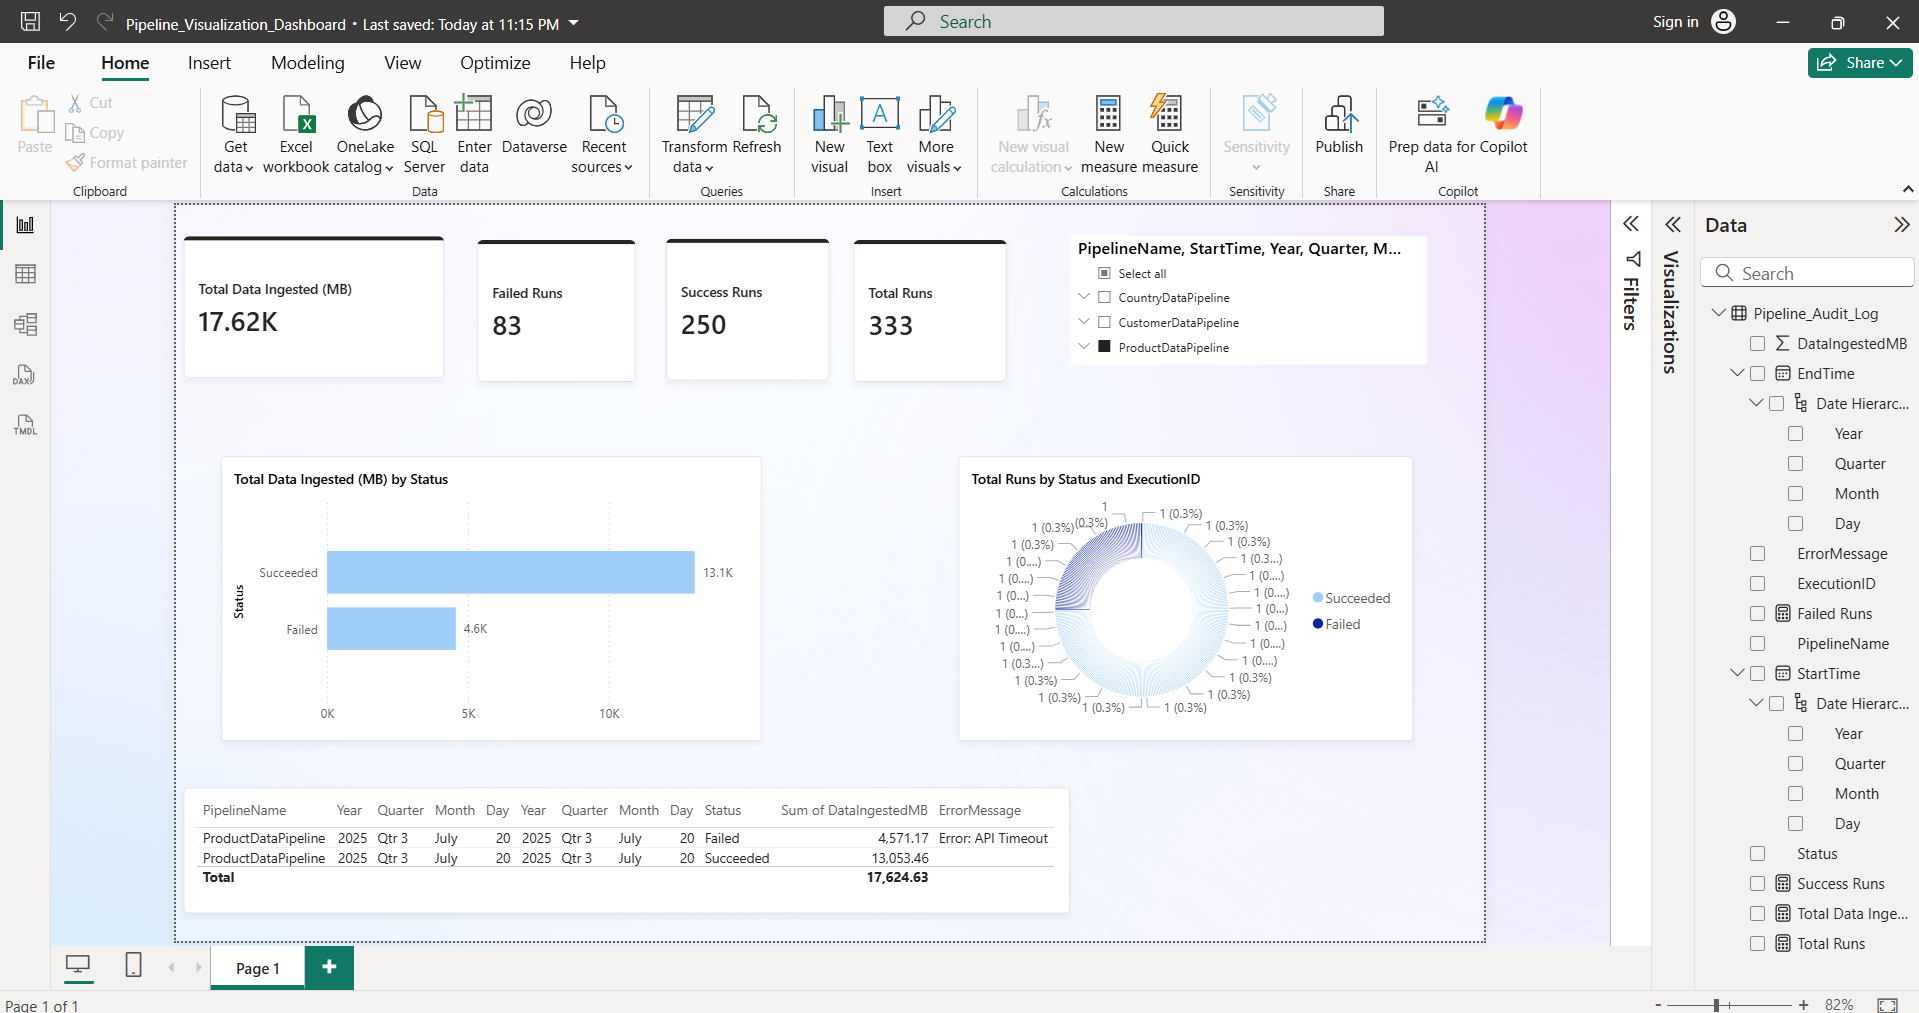

What the dashboard file says about the page in this screenshot:
{"tool":"powerbi","page":{"name":"Page 1","canvas":[1280,720],"ordinal":0},"visuals":[{"type":"cardVisual","fields":{"Data":["Pipeline_Audit_Log.Success Runs"]},"box":[479.4,33,160.2,139.4],"z":0},{"type":"cardVisual","fields":{"Data":["Pipeline_Audit_Log.Total Runs"]},"box":[662.8,34.2,150.4,139.4],"z":1000},{"type":"cardVisual","fields":{"Data":["Pipeline_Audit_Log.Failed Runs"]},"box":[294.7,34.2,155.3,139.4],"z":2000},{"type":"cardVisual","fields":{"Data":["Pipeline_Audit_Log.Total Data Ingested (MB)"]},"box":[7.3,30.6,255.6,139.4],"z":3000},{"type":"tableEx","fields":{"Values":["Pipeline_Audit_Log.PipelineName","Pipeline_Audit_Log.StartTime.Variation.Date Hierarchy.Year","Pipeline_Audit_Log.StartTime.Variation.Date Hierarchy.Quarter","Pipeline_Audit_Log.StartTime.Variation.Date Hierarchy.Month","Pipeline_Audit_Log.StartTime.Variation.Date Hierarchy.Day","Pipeline_Audit_Log.EndTime.Variation.Date Hierarchy.Year","Pipeline_Audit_Log.EndTime.Variation.Date Hierarchy.Quarter","Pipeline_Audit_Log.EndTime.Variation.Date Hierarchy.Month","Pipeline_Audit_Log.EndTime.Variation.Date Hierarchy.Day","Pipeline_Audit_Log.Status","Sum(Pipeline_Audit_Log.DataIngestedMB)","Pipeline_Audit_Log.ErrorMessage"]},"box":[7.2,569.4,867.4,123.1],"z":4000},{"type":"slicer","fields":{"Values":["Pipeline_Audit_Log.PipelineName","Pipeline_Audit_Log.StartTime","Pipeline_Audit_Log.StartTime.Variation.Date Hierarchy.Year","Pipeline_Audit_Log.StartTime.Variation.Date Hierarchy.Quarter","Pipeline_Audit_Log.StartTime.Variation.Date Hierarchy.Month","Pipeline_Audit_Log.StartTime.Variation.Date Hierarchy.Day"]},"box":[874.7,30.2,349.9,125.5],"z":5000},{"type":"donutChart","fields":{"Category":["Pipeline_Audit_Log.Status"],"Series":["Pipeline_Audit_Log.ExecutionID"],"Y":["Pipeline_Audit_Log.Total Runs"]},"box":[764.9,246.1,445.2,278.7],"z":6000},{"type":"clusteredBarChart","fields":{"Category":["Pipeline_Audit_Log.Status"],"Y":["Pipeline_Audit_Log.Total Data Ingested (MB)"]},"box":[43.4,246.1,528.4,278.7],"z":7000}]}

Visuals, with their boxes on the page's 1280x720 design canvas (x1, y1, x2, y2). These are canvas units, not pixel positions in the 1919x1013 screenshot, which may show the page scaled, cropped or inside an application window:
cardVisual - Pipeline_Audit_Log.Success Runs: locate(479, 33, 640, 172)
cardVisual - Pipeline_Audit_Log.Total Runs: locate(663, 34, 813, 174)
cardVisual - Pipeline_Audit_Log.Failed Runs: locate(295, 34, 450, 174)
cardVisual - Pipeline_Audit_Log.Total Data Ingested (MB): locate(7, 31, 263, 170)
tableEx - Pipeline_Audit_Log.PipelineName x Pipeline_Audit_Log.StartTime.Variation.Date Hierarchy.Year: locate(7, 569, 875, 692)
slicer - Pipeline_Audit_Log.PipelineName x Pipeline_Audit_Log.StartTime: locate(875, 30, 1225, 156)
donutChart - Pipeline_Audit_Log.Status x Pipeline_Audit_Log.ExecutionID: locate(765, 246, 1210, 525)
clusteredBarChart - Pipeline_Audit_Log.Status x Pipeline_Audit_Log.Total Data Ingested (MB): locate(43, 246, 572, 525)
